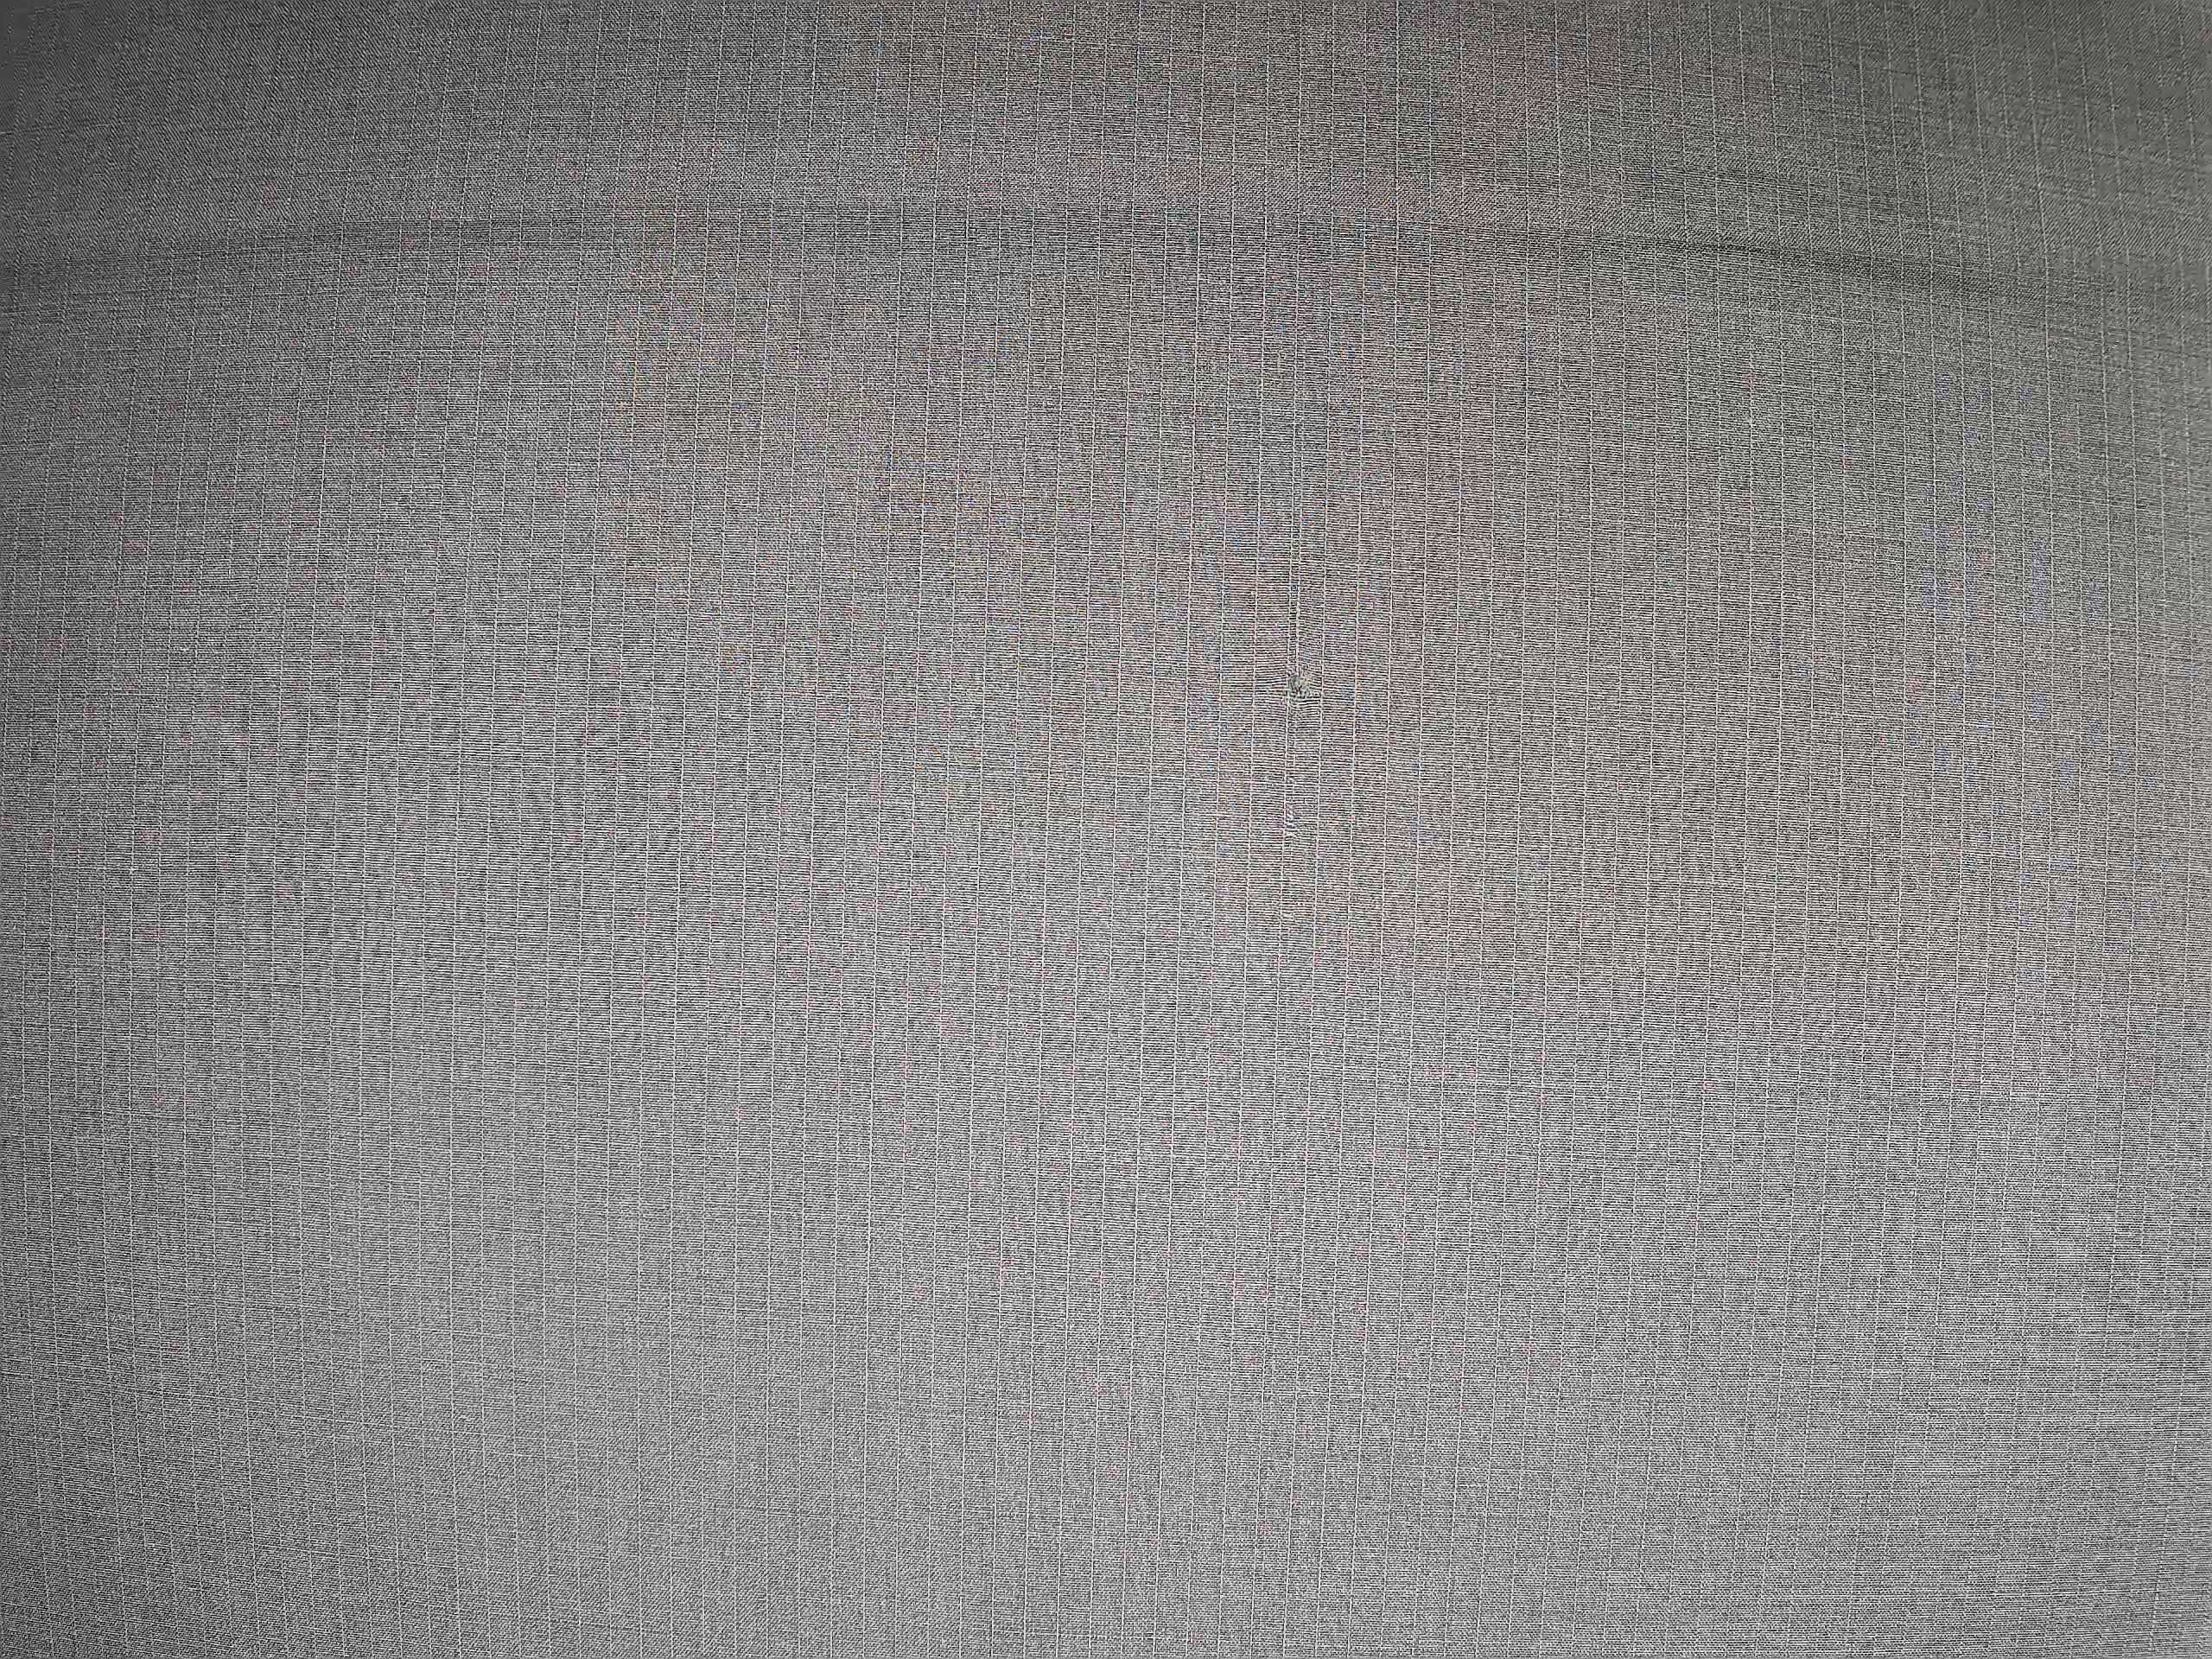knots: (1264, 627, 1334, 856)
